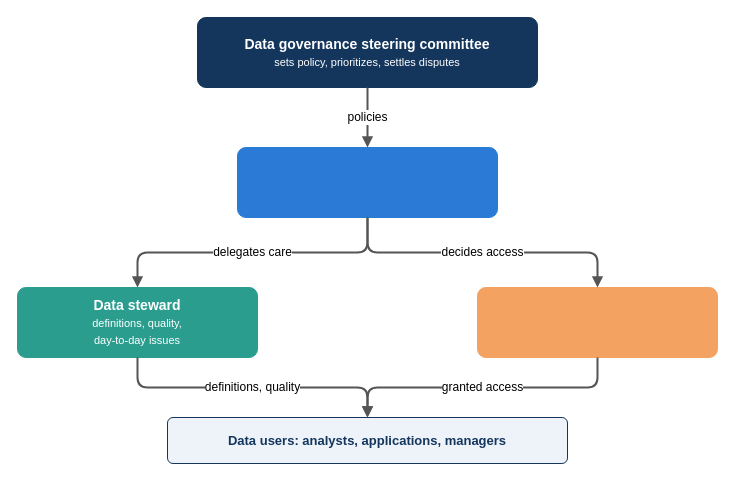
The diagram is 735 pixels wide and 481 high, and some of its shapes have lost their labels. The centre of each missing label's shape, as x and y in pixels:
Data custodian (IT) systems, security, backup, access controls: point 597,322
Data owner business leader accountable for a data domain: point 367,182
